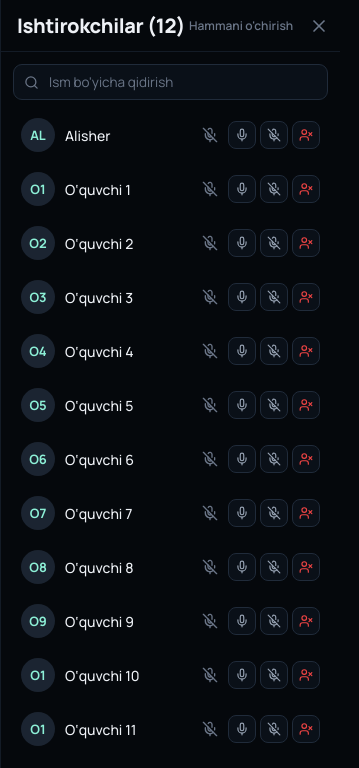
ParticipantsPanel › 10 tadan boshlab qidiruv chiqadi va ism bo‘yicha filtrlaydi (katta-kichik harf farqsiz)
Type "alisher" into the search field named "Ishtirokchilarni qidirish" at (182, 82), box [47,72,317,92]
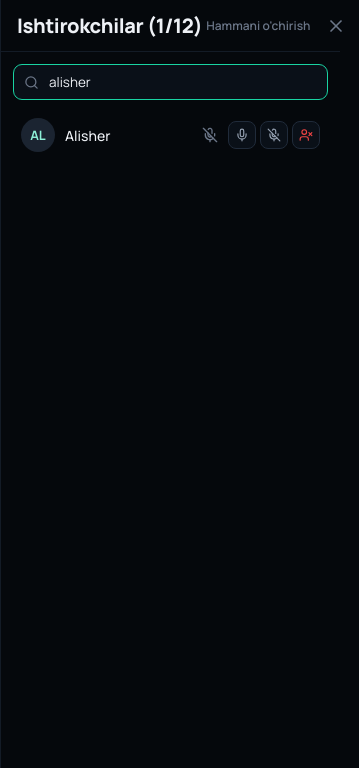
Expected: the text "Alisher" is shown, [65,126,110,144]
Expected: the text "O‘quvchi 5" is gone
Expected: the heading "Ishtirokchilar (1/12)" is shown, [17,12,202,39]
